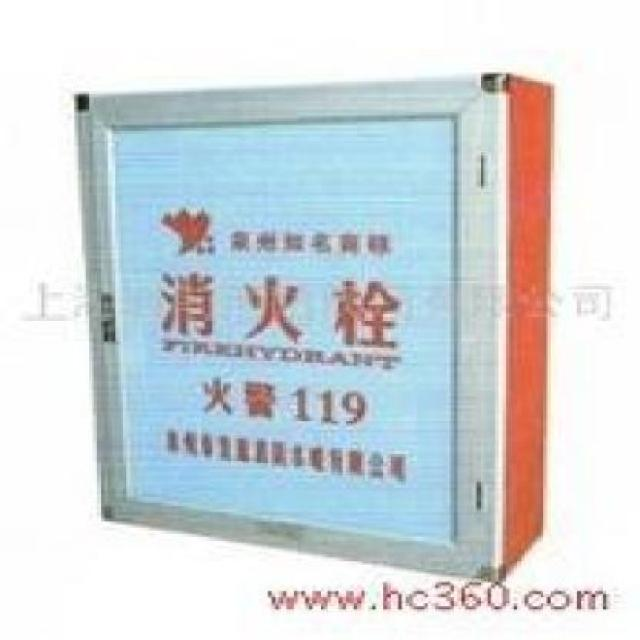firehydrant: (66, 63, 559, 587)
